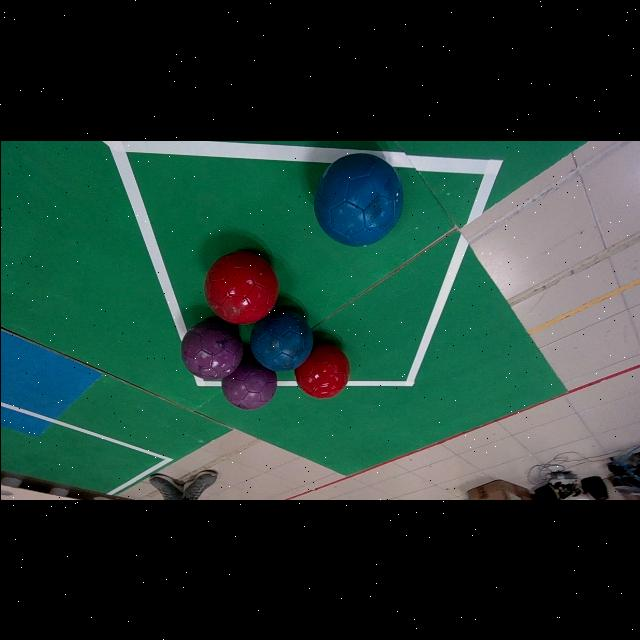B: (314, 153, 402, 246), (249, 309, 312, 372)
P: (181, 318, 242, 379), (220, 352, 276, 411)
R: (203, 251, 277, 324), (294, 342, 349, 399)
